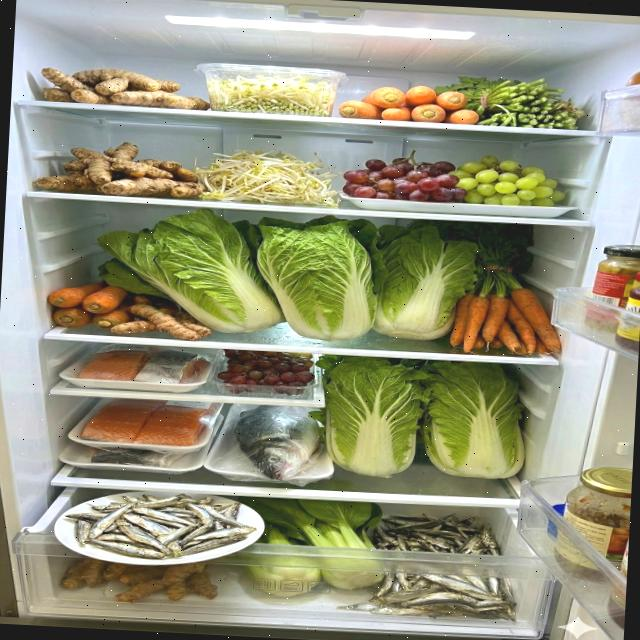anchovies: (63, 488, 258, 566)
bean_sprouts: (191, 144, 344, 208)
cabbage: (92, 202, 482, 350), (304, 354, 531, 486)
carrot: (449, 284, 564, 358), (338, 82, 482, 125), (46, 280, 132, 332)
fish: (231, 403, 322, 482), (79, 396, 217, 448), (78, 342, 213, 386)
grape: (341, 148, 567, 210), (216, 348, 316, 398)
pakchoy: (232, 496, 389, 602)
turmeric: (34, 137, 209, 200), (39, 65, 213, 111)
